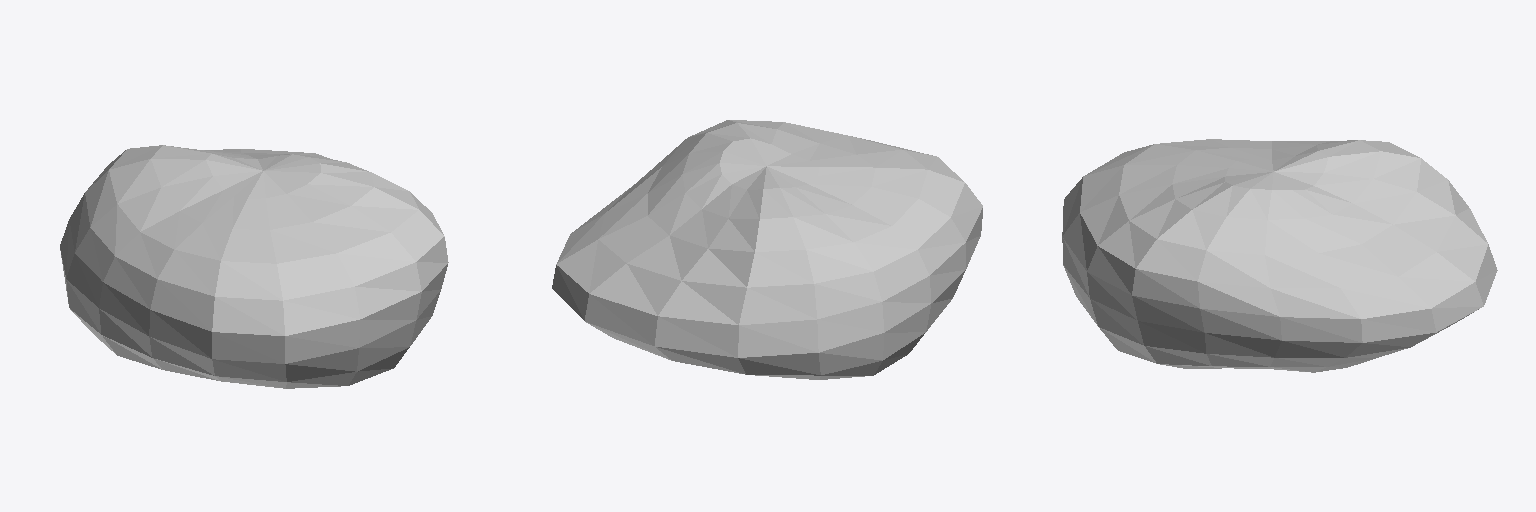
Rendered from rock7.Obj.
3 renders of one model, left to right at view 1: azimuth 30°, elevation 25°; view 2: azimuth 150°, elevation 25°; view 3: azimuth 270°, elevation 25°, orthographic.
Parts seen in each view (by area): view 1: default; view 2: default; view 3: default.
Boxes of the visible parts, box(x1,y1,x2,y2) form: default: box(60, 145, 448, 388); default: box(552, 120, 982, 379); default: box(1062, 139, 1497, 372).
Bounding box in the file's own units: 0.9686 × 0.5282 × 1.14.